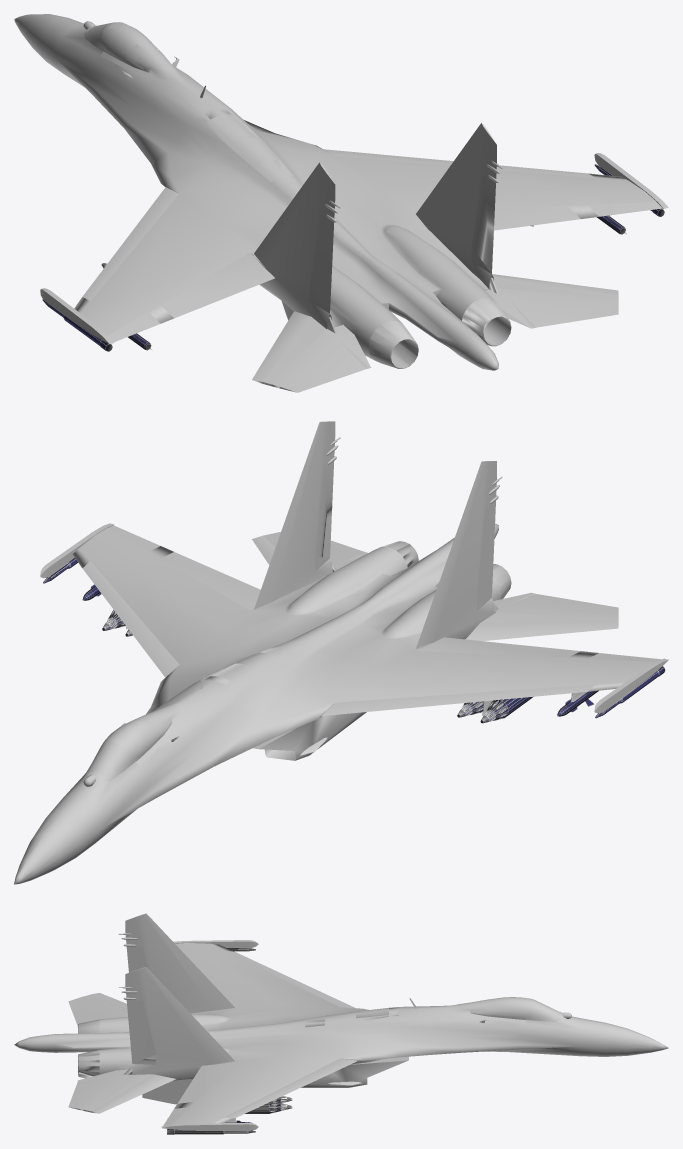
3 renders of one model, top to bottom at view 1: azimuth 30°, elevation 25°; view 2: azimuth 150°, elevation 25°; view 3: azimuth 270°, elevation 25°, orthographic. The views are drawn at different scales.
Parts seen in each view (by area): view 1: SU_korpus, Detail; view 2: SU_korpus, Detail, Rockets001; view 3: SU_korpus, Detail, Rockets003.
Boxes of the visible parts, bbox=[...] form: SU_korpus: bbox=[14, 14, 668, 370]; Detail: bbox=[82, 22, 662, 392]; SU_korpus: bbox=[14, 421, 668, 884]; Detail: bbox=[82, 461, 661, 779]; Rockets001: bbox=[480, 696, 533, 723]; SU_korpus: bbox=[14, 913, 668, 1134]; Detail: bbox=[68, 947, 558, 1125]; Rockets003: bbox=[245, 1101, 292, 1113].
Size of the model in its own units: 14.28 by 4.99 by 21.41.
